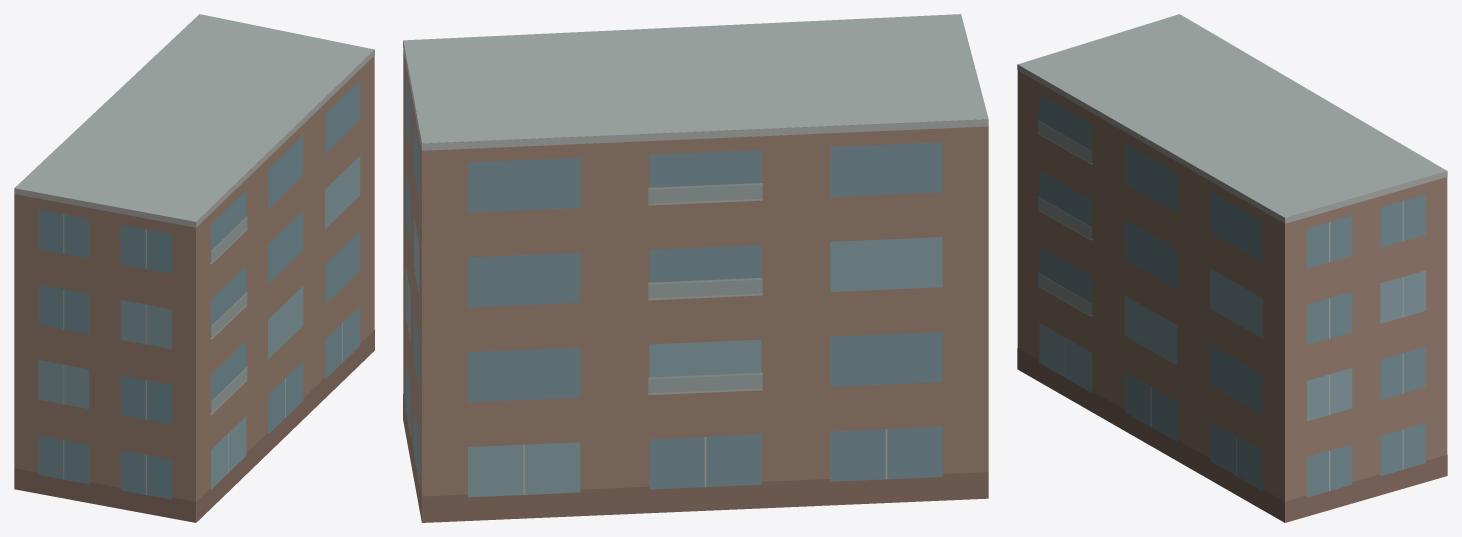
File: survey-upis-32630822.glb
3 renders of one model, left to right at view 1: azimuth 30°, elevation 25°; view 2: azimuth 150°, elevation 25°; view 3: azimuth 270°, elevation 25°, orthographic. The views are drawn at different scales.
Visible parts, largest first — view 1: survey-upis-32630822.tmp; view 2: survey-upis-32630822.tmp; view 3: survey-upis-32630822.tmp.
Part boxes in pixels (bbox=[...]): survey-upis-32630822.tmp: bbox=[14, 14, 374, 522]; survey-upis-32630822.tmp: bbox=[403, 14, 988, 522]; survey-upis-32630822.tmp: bbox=[1017, 14, 1447, 522].
Size of the model in its own units: 18.08 by 12.6 by 16.11.
